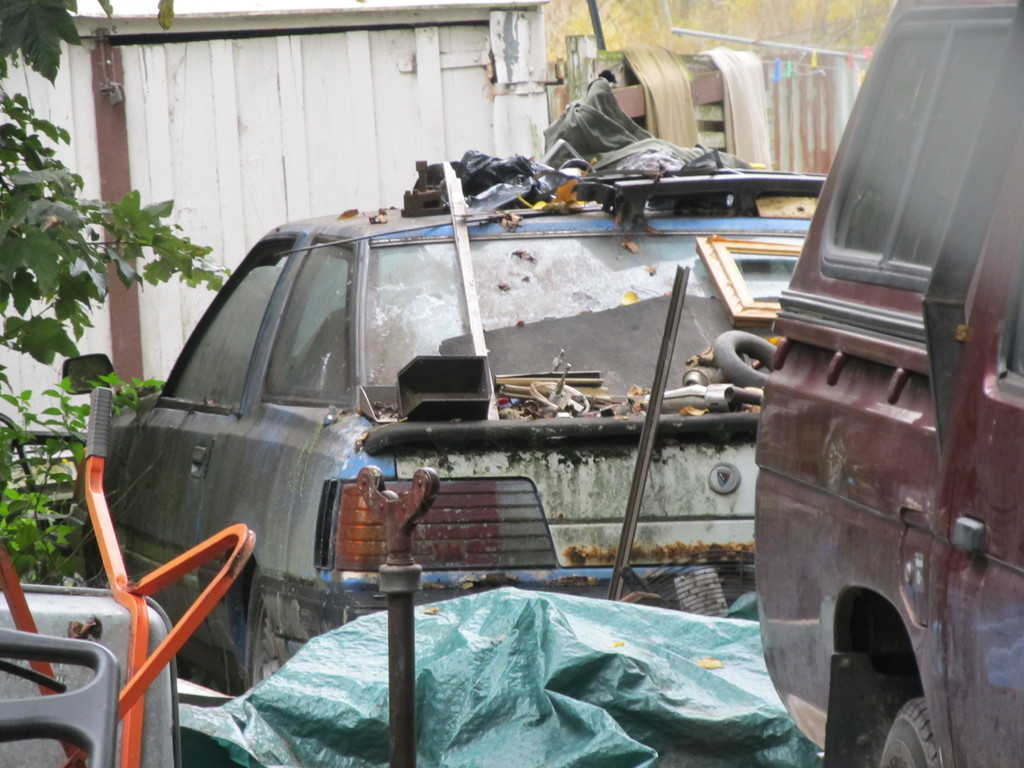Car: (83, 190, 814, 696), (752, 0, 1023, 767)
